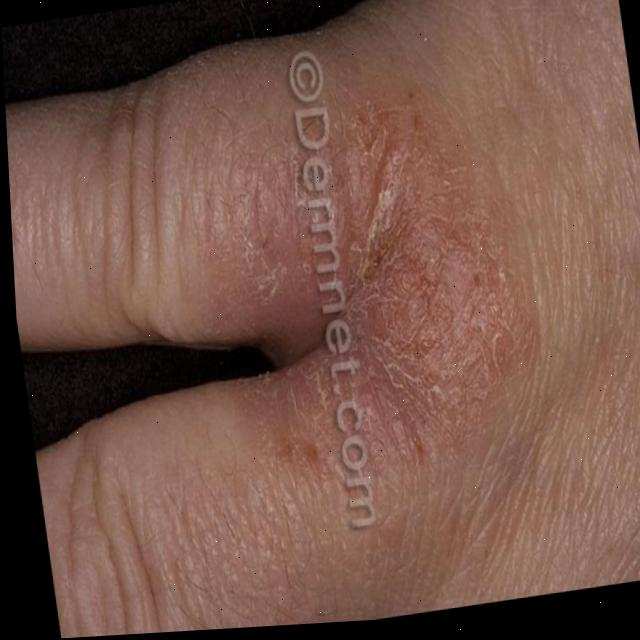Eczema: (239, 116, 520, 464)
